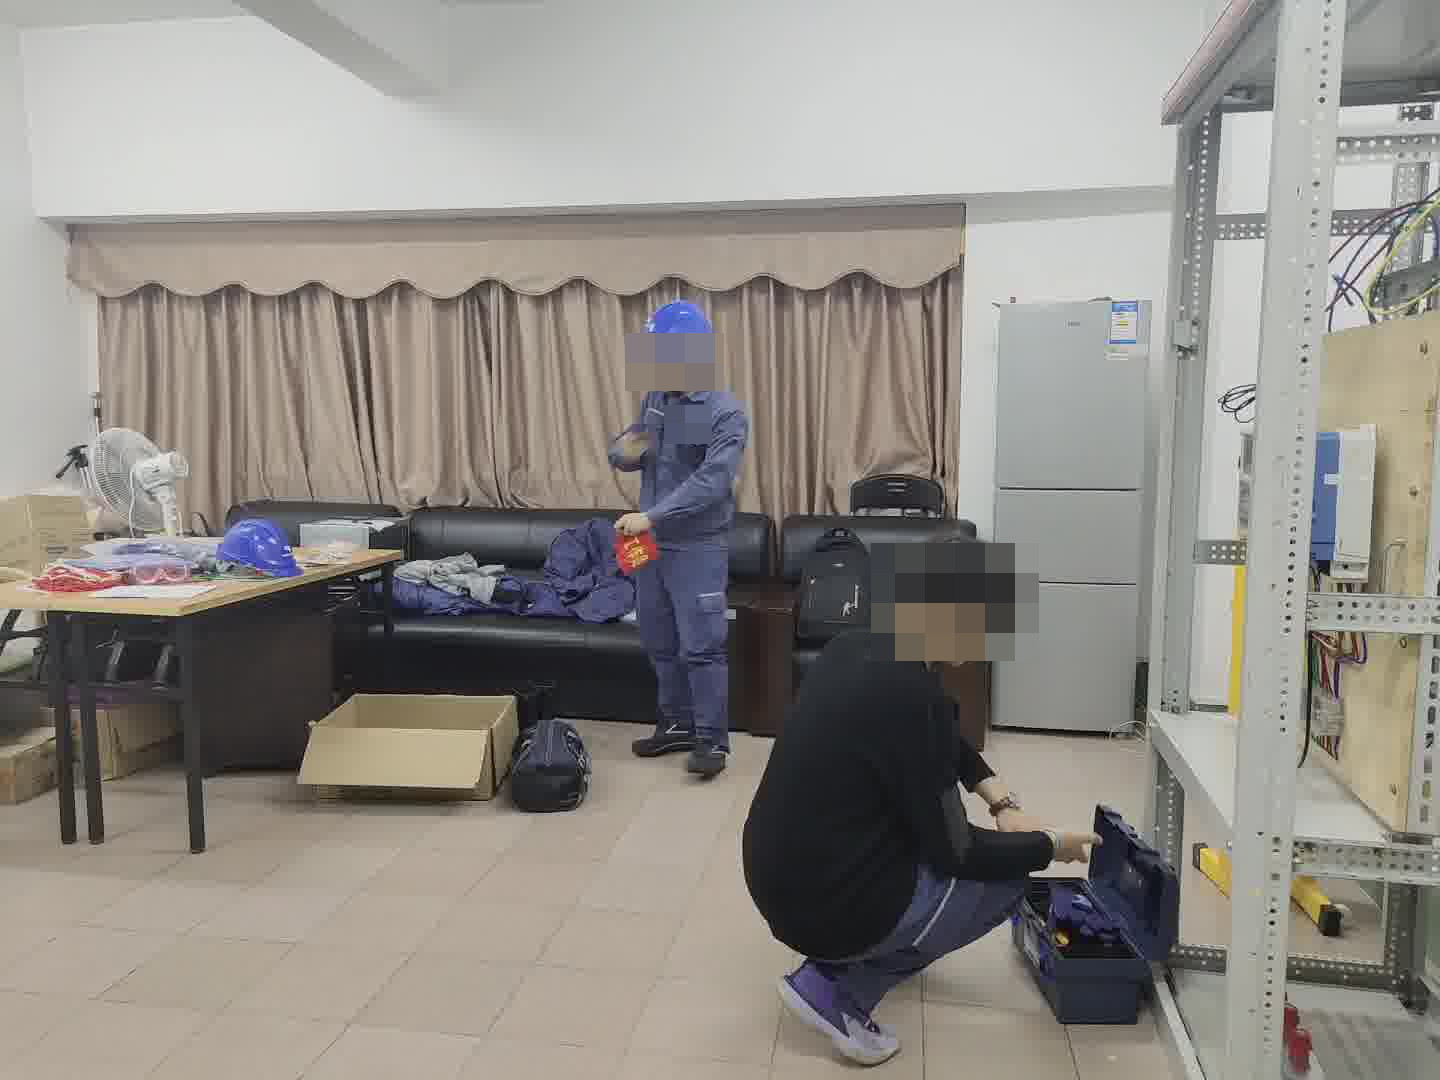downsuit: (643, 547, 732, 738)
halt: (637, 299, 719, 387)
hand: (1041, 823, 1101, 871), (617, 511, 651, 540)
inear: (674, 341, 701, 383)
noear: (928, 592, 1001, 662)
person: (749, 525, 1166, 1071), (608, 298, 755, 776)
unhalt: (887, 525, 1025, 669)
upcloth: (761, 635, 970, 948)
upsuit: (614, 380, 748, 530)
